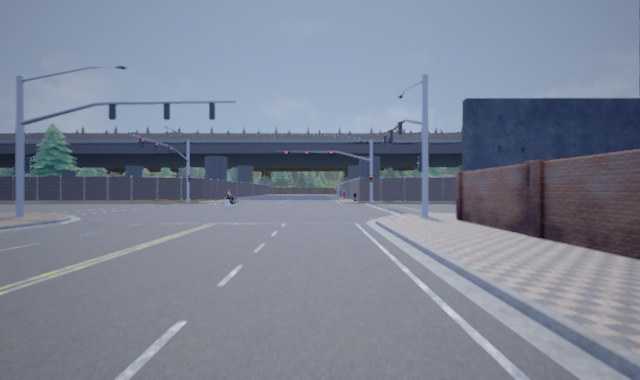bike: (219, 187, 240, 208)
traffic_light: (139, 137, 145, 149), (168, 143, 173, 155), (282, 148, 289, 155), (154, 141, 159, 150), (368, 173, 373, 182), (304, 149, 310, 155), (328, 149, 333, 155)
